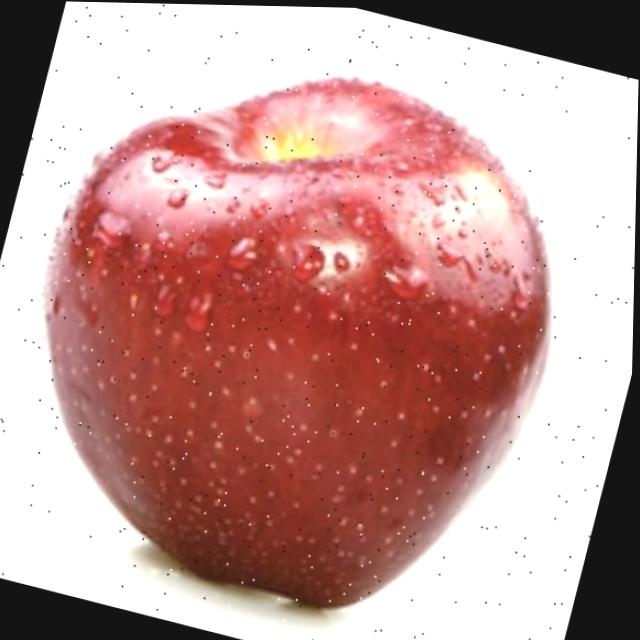Apple: (0, 9, 606, 640)
